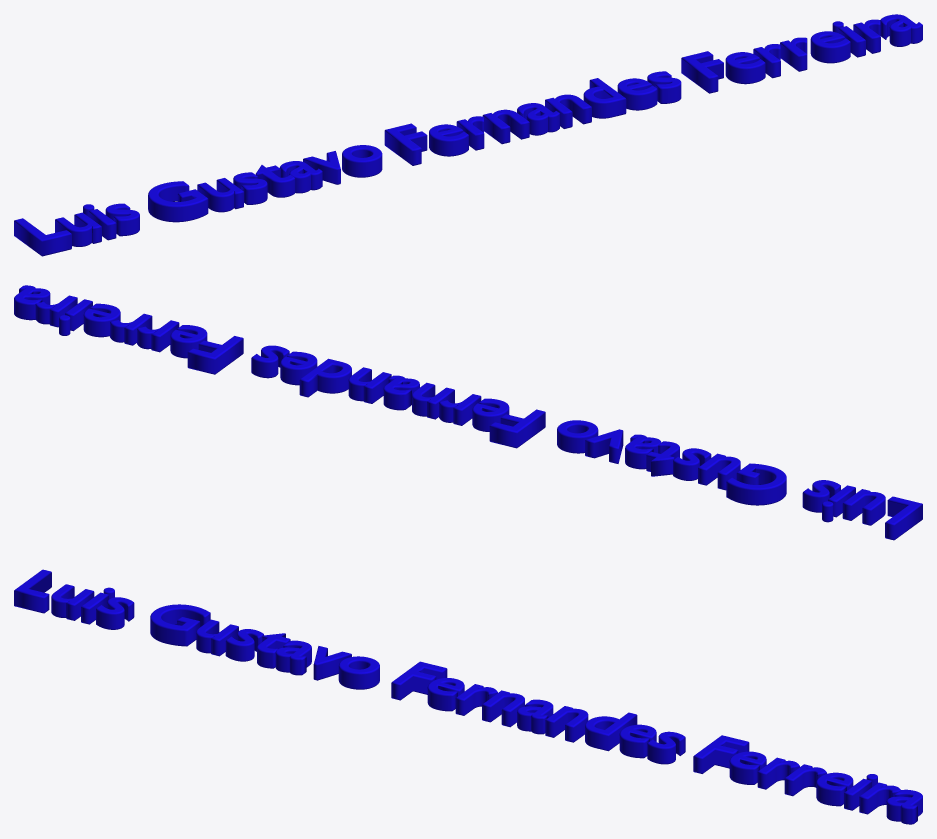
The picture shows the model from 3 angles, top to bottom: view 1: azimuth 30°, elevation 25°; view 2: azimuth 150°, elevation 25°; view 3: azimuth 330°, elevation 25°; orthographic projection.
Parts seen in each view (by area): view 1: UniPinhal; view 2: UniPinhal; view 3: UniPinhal.
Boxes of the visible parts, <box> form: UniPinhal: <box>14,14,922,256</box>; UniPinhal: <box>14,285,922,540</box>; UniPinhal: <box>14,569,922,824</box>.
Bounding box in the file's own units: 1316 × 24 × 74.
